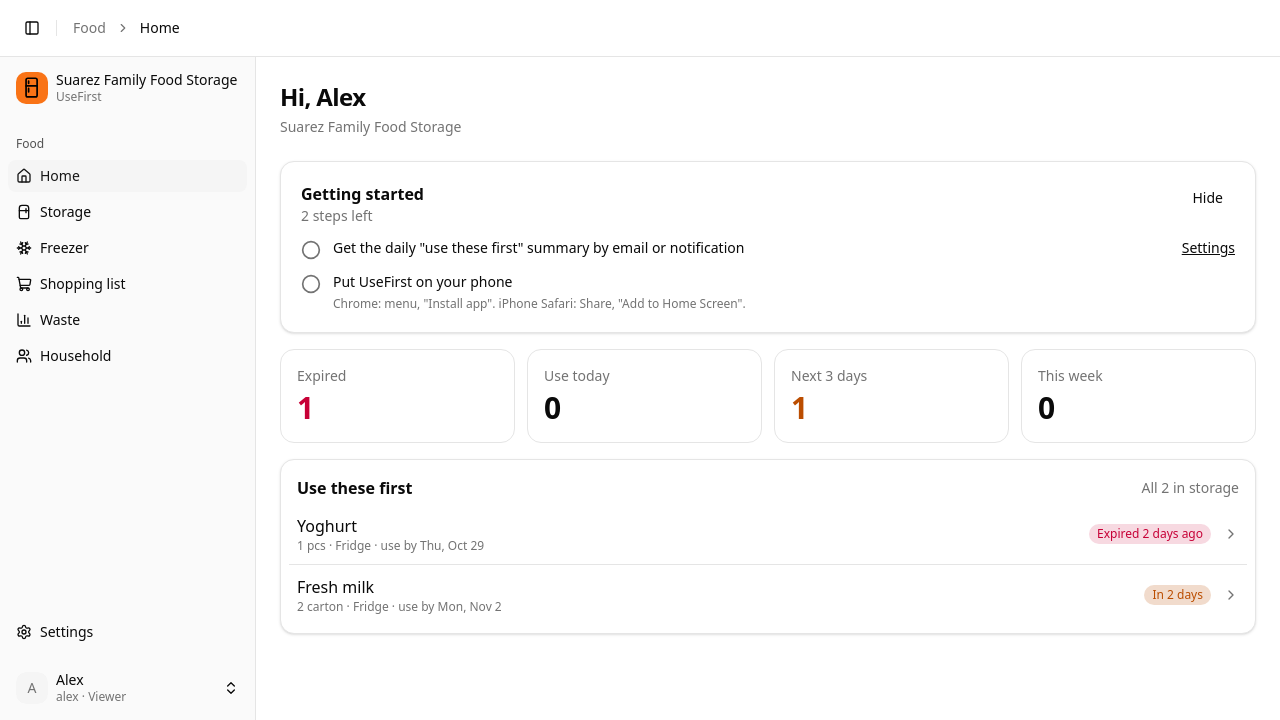
Test: roles › lets a viewer look but not add or act
Expected: the heading "Use these first" is shown, [297, 476, 412, 500]
Click the button "Fresh milk 2 carton · Fridge · use by Mon, Nov 2 In 2 days": (336, 587) [289, 565, 1247, 625]
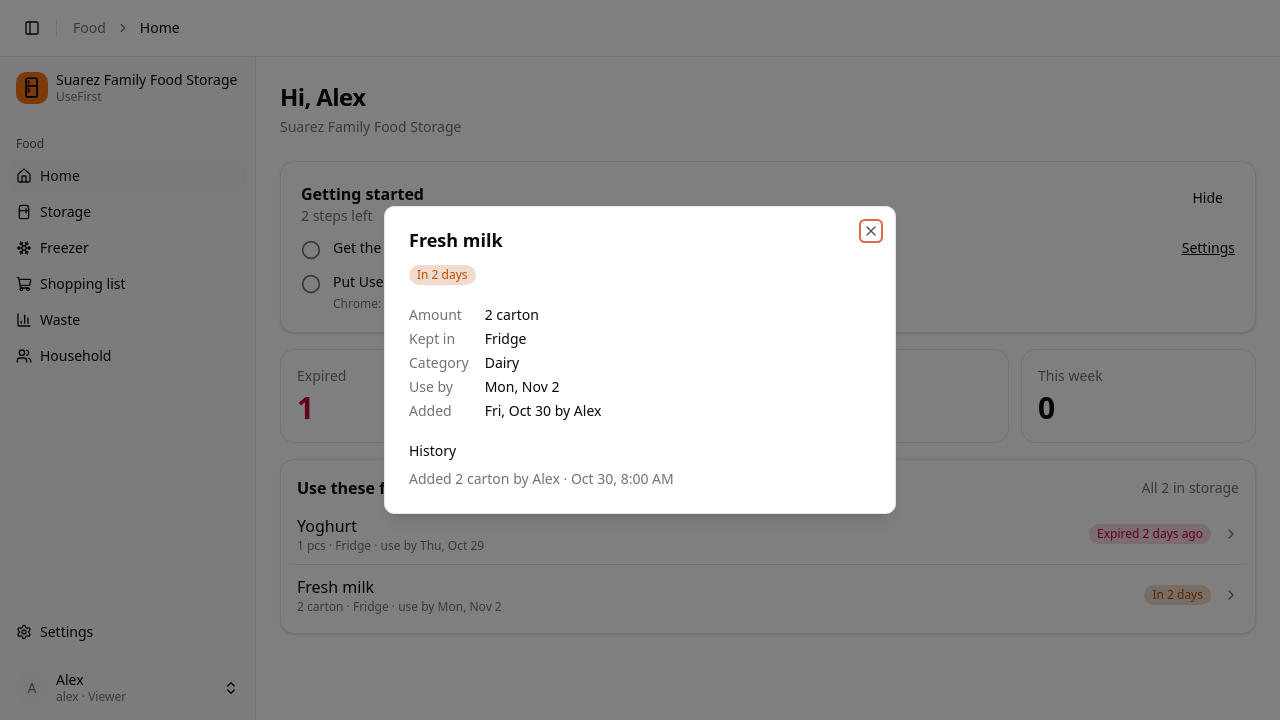
Expected: the heading "History" is shown, [409, 441, 456, 460]
